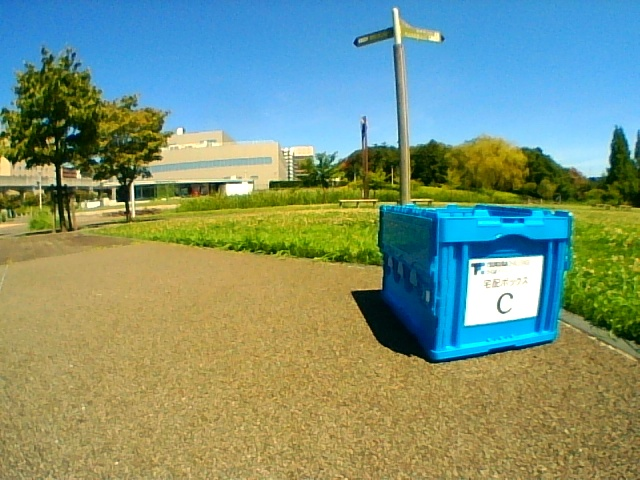blue_box: (413, 211, 555, 338)
tag_c: (474, 260, 530, 316)
